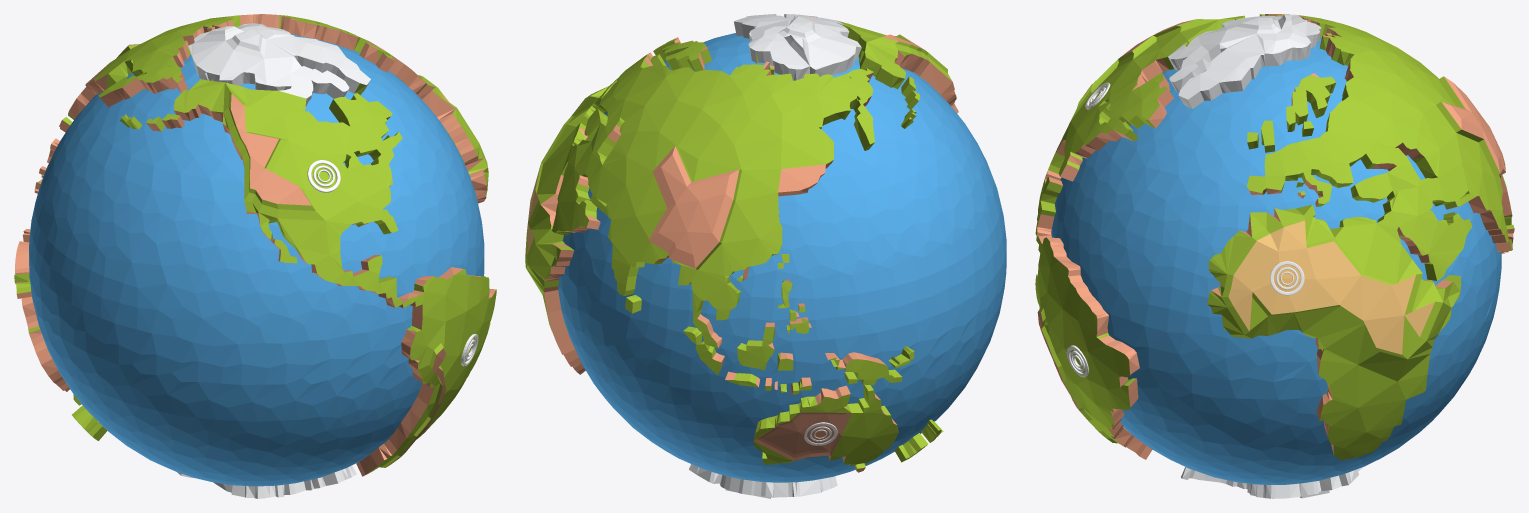
The model's file is earth.glb.
3 renders of one model, left to right at view 1: azimuth 30°, elevation 25°; view 2: azimuth 150°, elevation 25°; view 3: azimuth 270°, elevation 25°, orthographic.
Visible parts, largest first — view 1: Object, Circle; view 2: Object; view 3: Object, Circle.003.
Boxes of the visible parts, x1=… form: Object: x1=14, y1=14, x2=496, y2=498; Circle: x1=307, y1=160, x2=340, y2=192; Object: x1=525, y1=14, x2=1006, y2=498; Object: x1=1035, y1=14, x2=1514, y2=498; Circle.003: x1=1270, y1=261, x2=1304, y2=295.
Size of the model in its own units: 2.09 by 2.23 by 2.09.
Materials: 2 (1 with a texture image).
